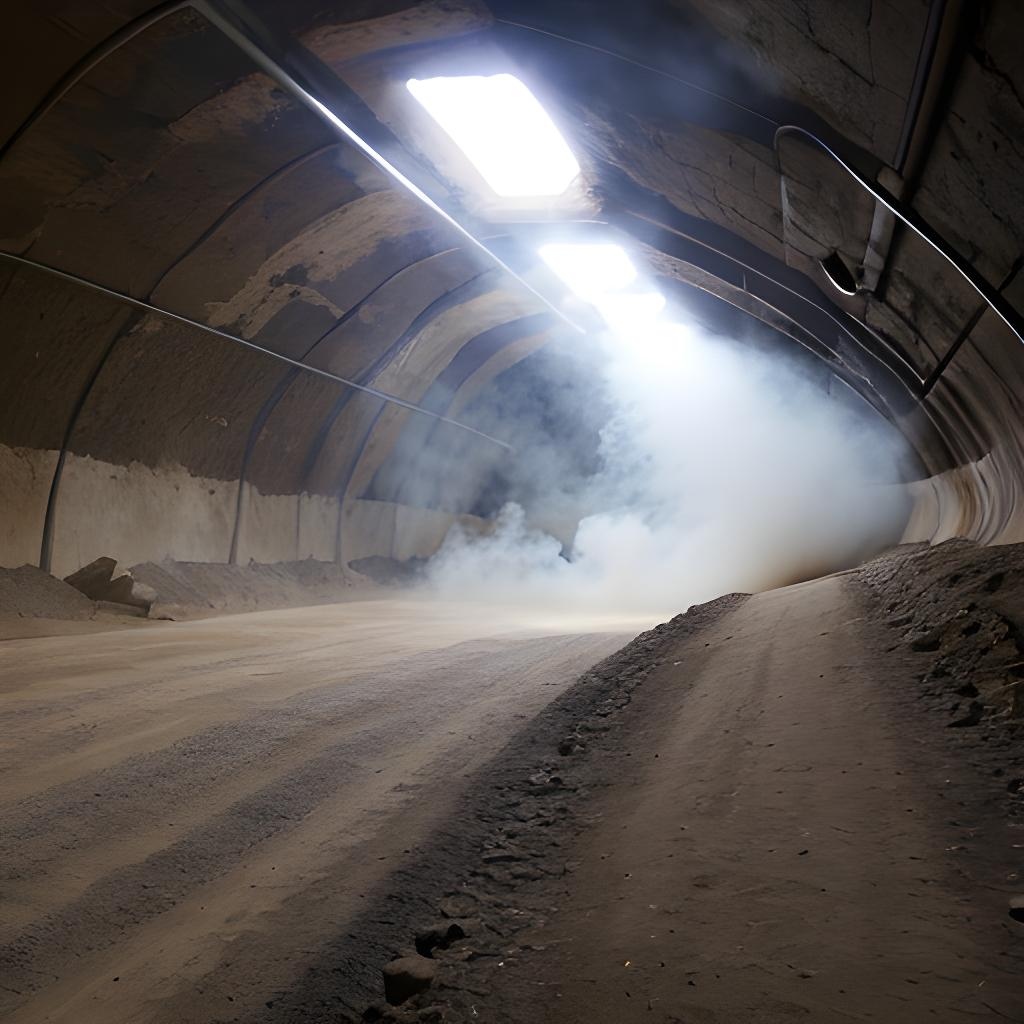smoke: (317, 8, 959, 665)
